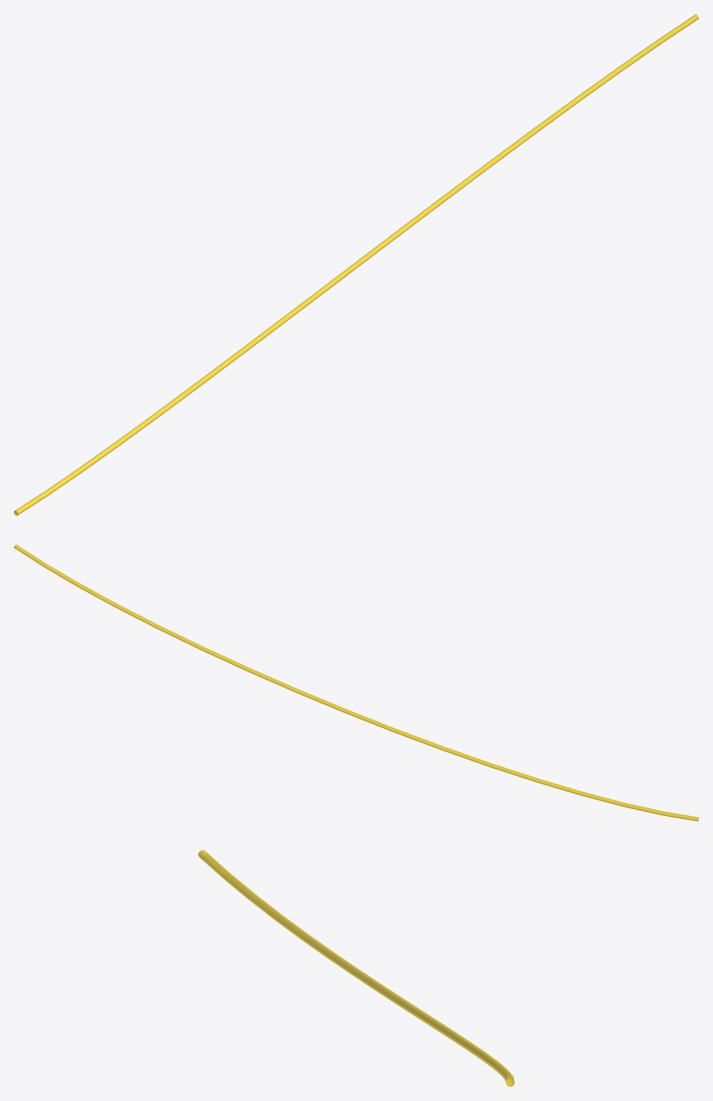
File: Event_17758602_track_112.fbx
3 renders of one model, top to bottom at view 1: azimuth 30°, elevation 25°; view 2: azimuth 150°, elevation 25°; view 3: azimuth 270°, elevation 25°, orthographic. The views are drawn at different scales.
Parts seen in each view (by area): view 1: Model; view 2: Model; view 3: Model.
Boxes of the visible parts, x1,y1,x2,y2 form: Model: (14, 14, 698, 515); Model: (14, 544, 698, 821); Model: (198, 850, 514, 1086).
Size of the model in its own units: 6.35 by 1.85 by 1.43.
